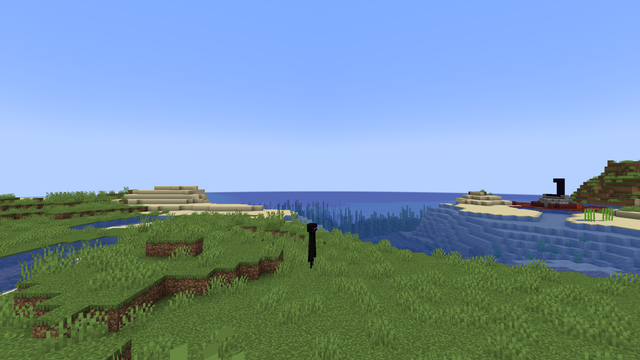endermens: (307, 221, 316, 268)
